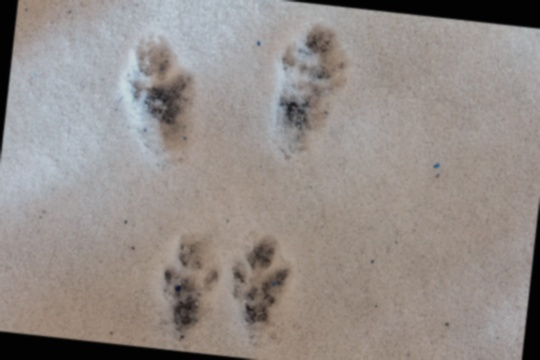ecureuil: (260, 5, 366, 171), (105, 20, 209, 186), (136, 211, 230, 355), (218, 225, 301, 352)
